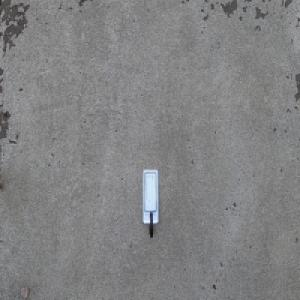LuggageTag: (141, 167, 159, 239)
